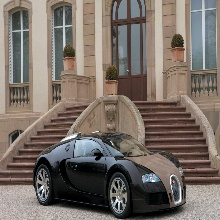no damage: (34, 132, 188, 216)
